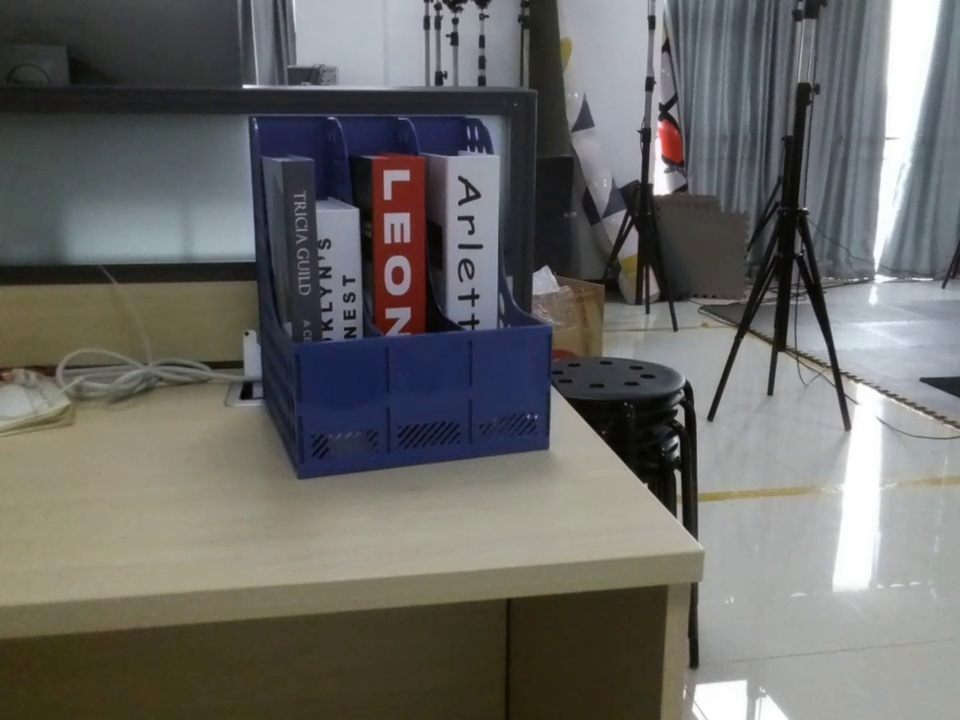files: (244, 112, 557, 490)
